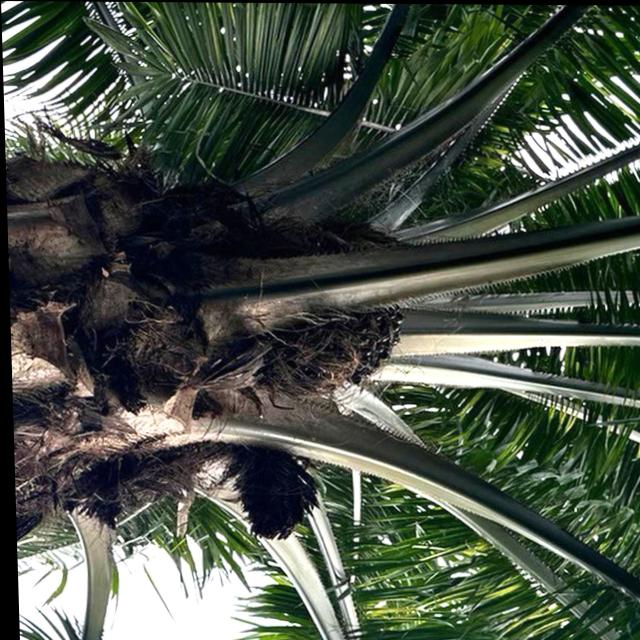almost: (257, 282, 412, 397)
